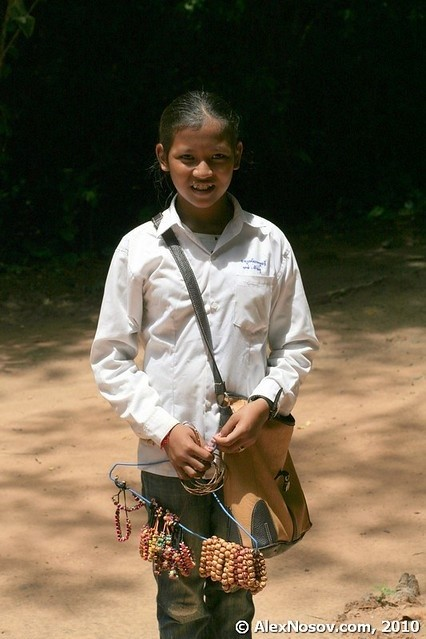face_no_mask: (156, 91, 245, 211)
